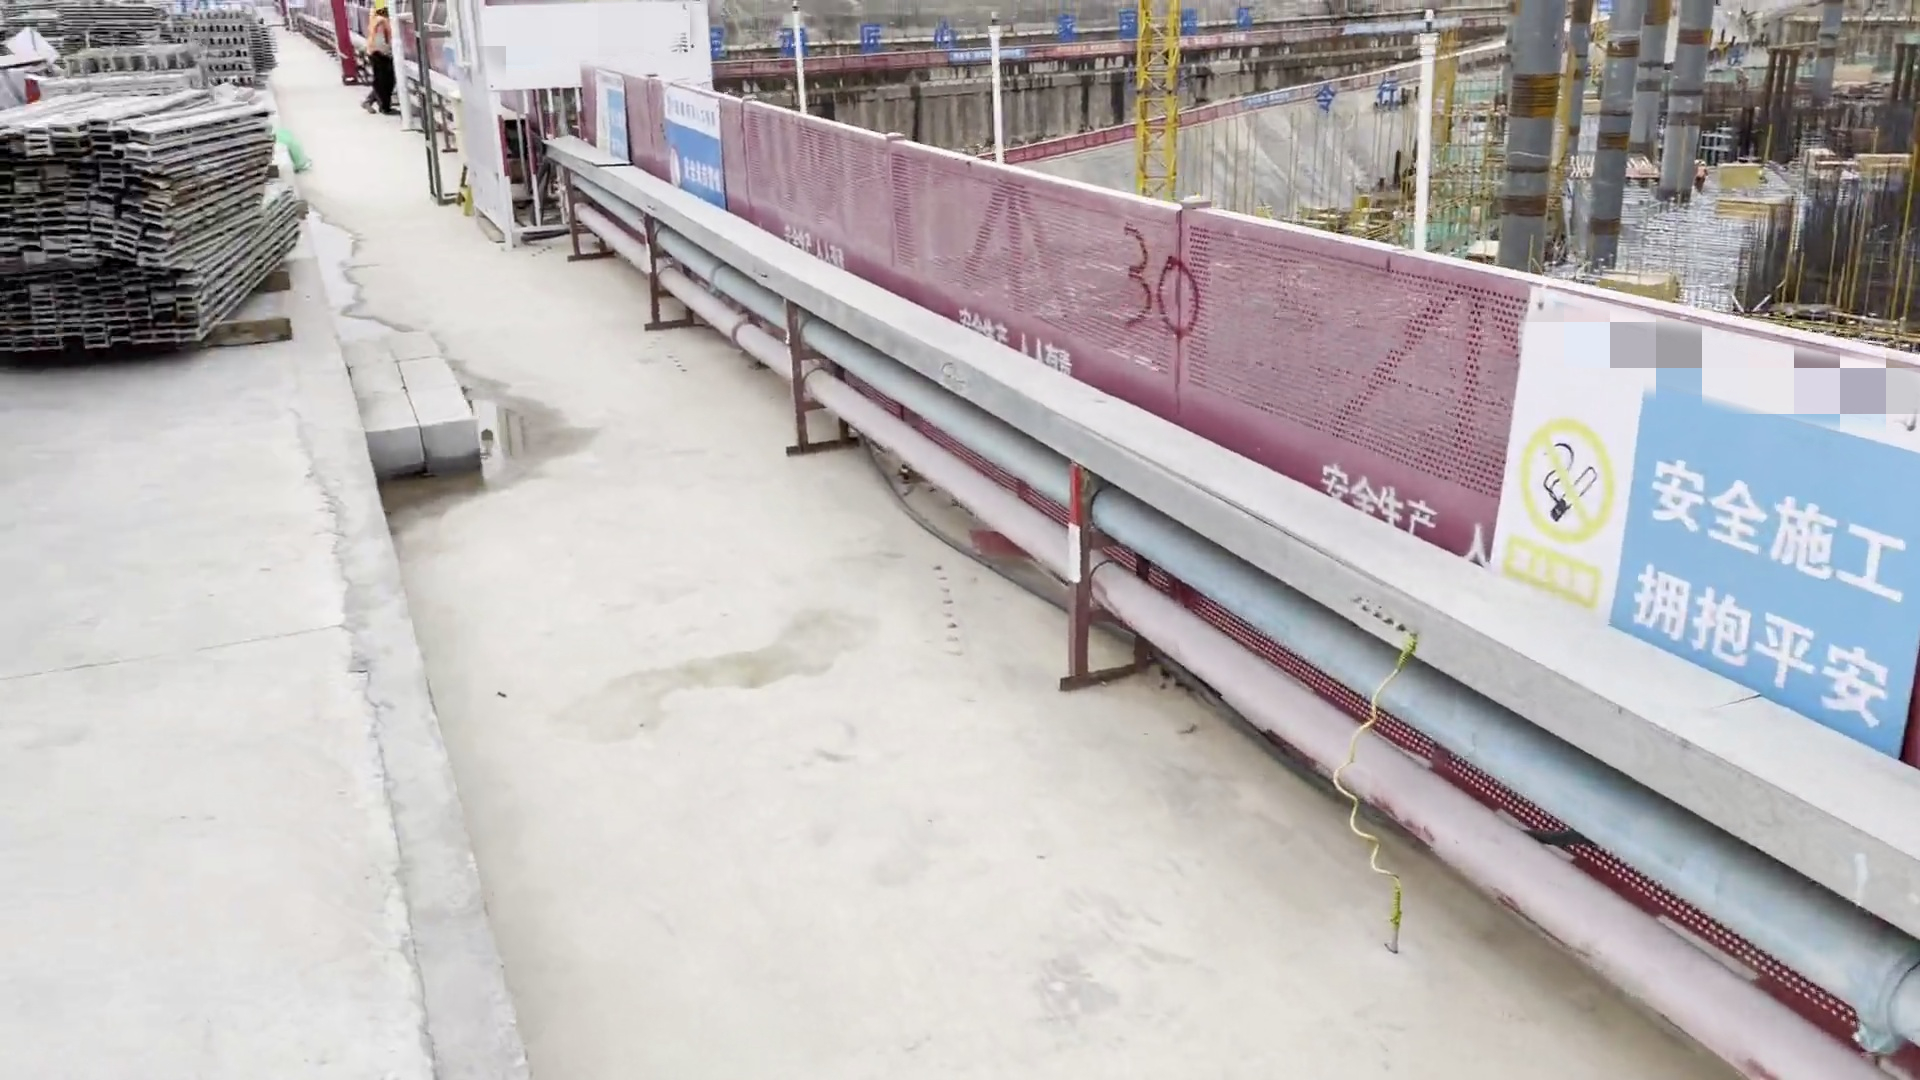brick: (344, 328, 494, 484)
ebox: (443, 88, 477, 214)
fence: (1541, 287, 1920, 770), (1158, 208, 1567, 611), (813, 127, 1183, 454), (569, 61, 830, 331)
helmet: (369, 3, 393, 21)
person: (366, 3, 402, 126)
slogan: (1471, 254, 1920, 767), (654, 85, 745, 227), (583, 70, 646, 195)
vest: (363, 16, 397, 64)
wood: (1718, 163, 1783, 223), (1600, 269, 1681, 301), (1471, 236, 1500, 263)
